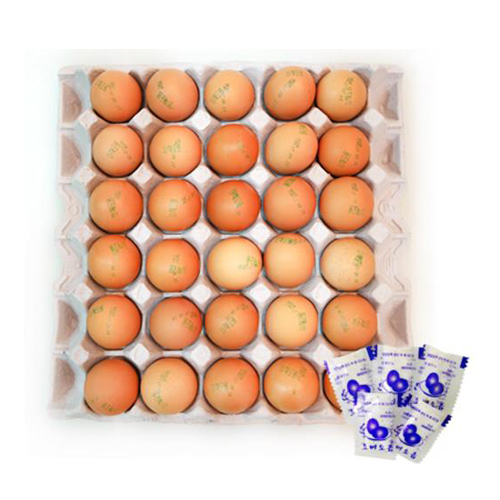egg: (81, 66, 382, 418)
